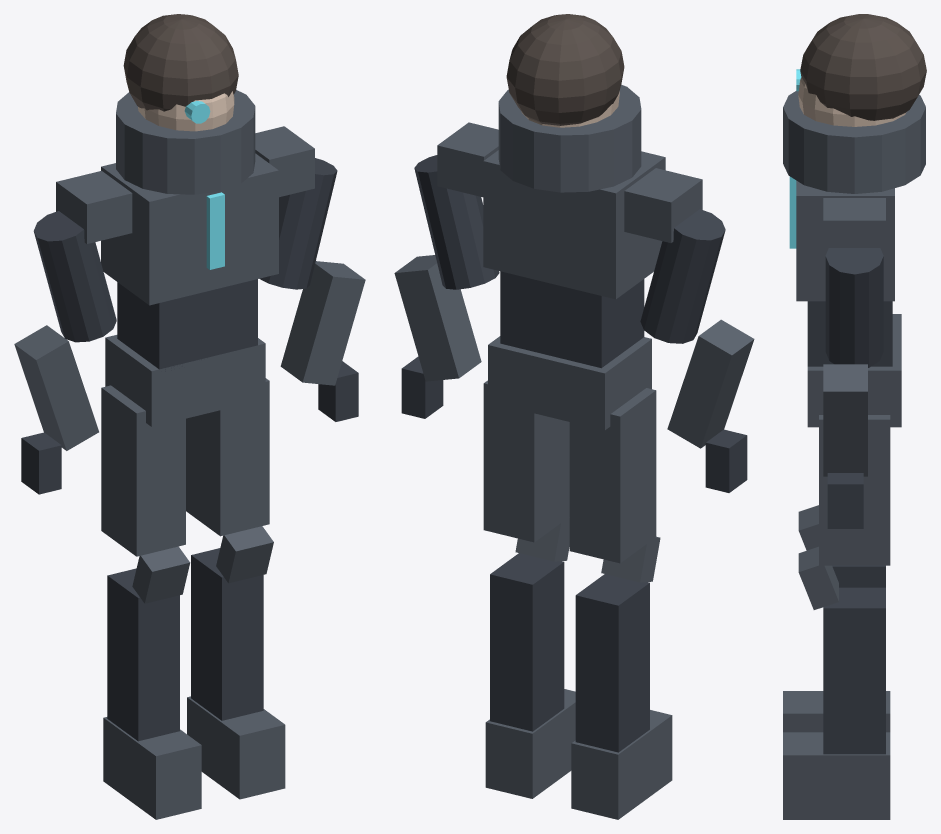
Rendered from Aeron_Mesh.fbx.
The picture shows the model from 3 angles, left to right: view 1: azimuth 30°, elevation 25°; view 2: azimuth 150°, elevation 25°; view 3: azimuth 270°, elevation 25°; orthographic projection. The views are drawn at different scales.
Parts seen in each view (by area): view 1: Aeron_Armor_Chest, Aeron_ThighArmor_Left, Aeron_ShinGuard_Left, Aeron_ShinGuard_Right, Aeron_ThighArmor_Right, Aeron_Armor_Collar, Aeron_Armor_Abdomen, Aeron_Armor_Pelvis, Aeron_Hair, Aeron_CombatBoot_Left, Aeron_CombatBoot_Right, Aeron_UpperArm_Left (+11 smaller); view 2: Aeron_Armor_Chest, Aeron_ThighArmor_Left, Aeron_ShinGuard_Right, Aeron_ShinGuard_Left, Aeron_ThighArmor_Right, Aeron_Armor_Collar, Aeron_Hair, Aeron_Armor_Abdomen, Aeron_Armor_Pelvis, Aeron_UpperArm_Left, Aeron_CombatBoot_Left, Aeron_Gauntlet_Right (+9 smaller); view 3: Aeron_Hair, Aeron_ShinGuard_Right, Aeron_Armor_Collar, Aeron_CombatBoot_Right, Aeron_UpperArm_Right, Aeron_ThighArmor_Right, Aeron_Gauntlet_Right, Aeron_Armor_Chest, Aeron_Armor_Pelvis, Aeron_Pauldron_Right, Aeron_Hand_Right, Aeron_Armor_Abdomen (+6 smaller).
Boxes of the visible parts, box(x1,y1,x2,y2) form: Aeron_Armor_Chest: box(101, 153, 278, 305); Aeron_ThighArmor_Left: box(101, 385, 185, 556); Aeron_ShinGuard_Left: box(107, 568, 179, 741); Aeron_ShinGuard_Right: box(191, 548, 263, 720); Aeron_ThighArmor_Right: box(186, 378, 269, 536); Aeron_Armor_Collar: box(116, 90, 255, 194); Aeron_Armor_Abdomen: box(117, 279, 257, 371); Aeron_Armor_Pelvis: box(105, 335, 265, 426); Aeron_Hair: box(123, 14, 238, 111); Aeron_CombatBoot_Left: box(103, 717, 201, 819); Aeron_CombatBoot_Right: box(187, 696, 285, 799); Aeron_UpperArm_Left: box(33, 211, 116, 342); Aeron_Armor_Chest: box(483, 150, 665, 299); Aeron_ThighArmor_Left: box(569, 388, 656, 563); Aeron_ShinGuard_Right: box(490, 553, 564, 731); Aeron_ShinGuard_Left: box(575, 574, 649, 752); Aeron_ThighArmor_Right: box(483, 380, 569, 542); Aeron_Armor_Collar: box(498, 84, 641, 192); Aeron_Hair: box(506, 14, 624, 125); Aeron_Armor_Abdomen: box(500, 271, 644, 368); Aeron_Armor_Pelvis: box(488, 336, 651, 430); Aeron_UpperArm_Left: box(640, 209, 725, 343); Aeron_CombatBoot_Left: box(571, 710, 672, 819); Aeron_Gauntlet_Right: box(394, 255, 481, 381); Aeron_Hair: box(800, 14, 926, 120); Aeron_ShinGuard_Right: box(823, 587, 885, 754); Aeron_Armor_Collar: box(783, 91, 925, 193); Aeron_CombatBoot_Right: box(783, 732, 890, 819); Aeron_UpperArm_Right: box(825, 248, 883, 367); Aeron_ThighArmor_Right: box(819, 415, 890, 565); Aeron_Gauntlet_Right: box(823, 364, 867, 476); Aeron_Armor_Chest: box(796, 180, 894, 301); Aeron_Armor_Pelvis: box(807, 314, 901, 427); Aeron_Pauldron_Right: box(823, 198, 885, 260); Aeron_Hand_Right: box(827, 473, 863, 528); Aeron_Armor_Abdomen: box(807, 301, 892, 366).
Size of the model in its own units: 0.8659 by 1.9 by 0.3217.
